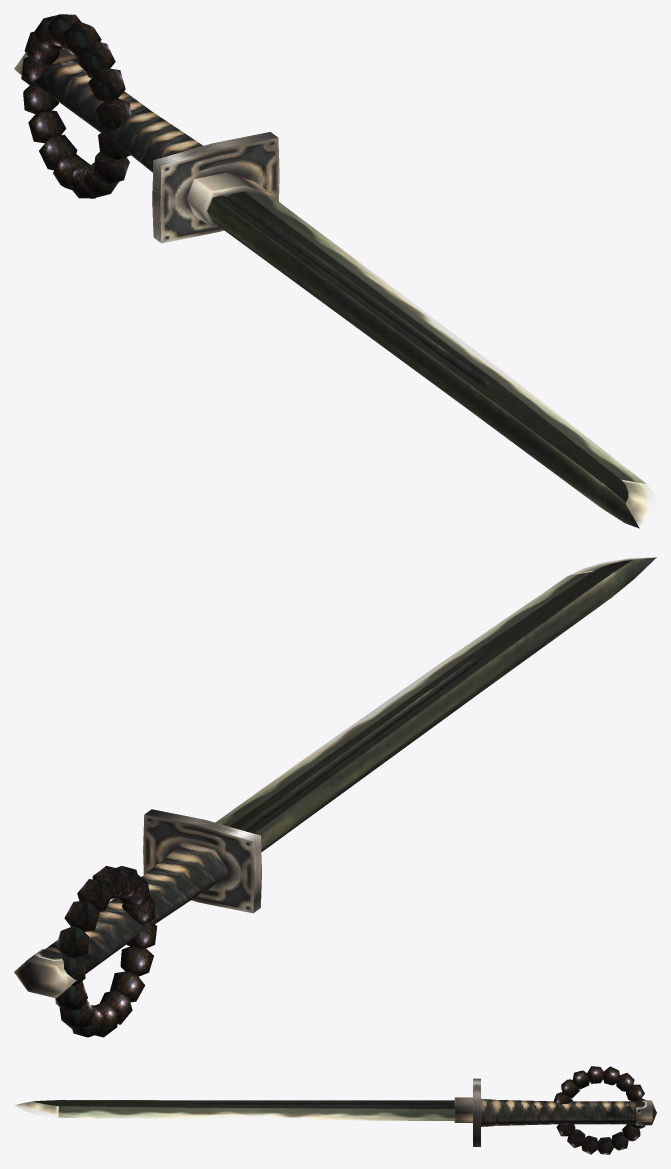
File: we114_amh.OBJ
3 renders of one model, top to bottom at view 1: azimuth 30°, elevation 25°; view 2: azimuth 150°, elevation 25°; view 3: azimuth 270°, elevation 25°, orthographic. The views are drawn at different scales.
Parts seen in each view (by area): view 1: mesh_0, mesh_1; view 2: mesh_0, mesh_1; view 3: mesh_0, mesh_1.
Part boxes in pixels (x1,y1,x2,y2): mesh_0: (14,48,656,528); mesh_1: (21,14,130,198); mesh_0: (14,557,656,998); mesh_1: (55,866,157,1037); mesh_0: (14,1078,656,1146); mesh_1: (554,1066,645,1154).
Bounding box in the file's own units: 11.74 × 16.08 × 108.
1 material, 1 textured.
